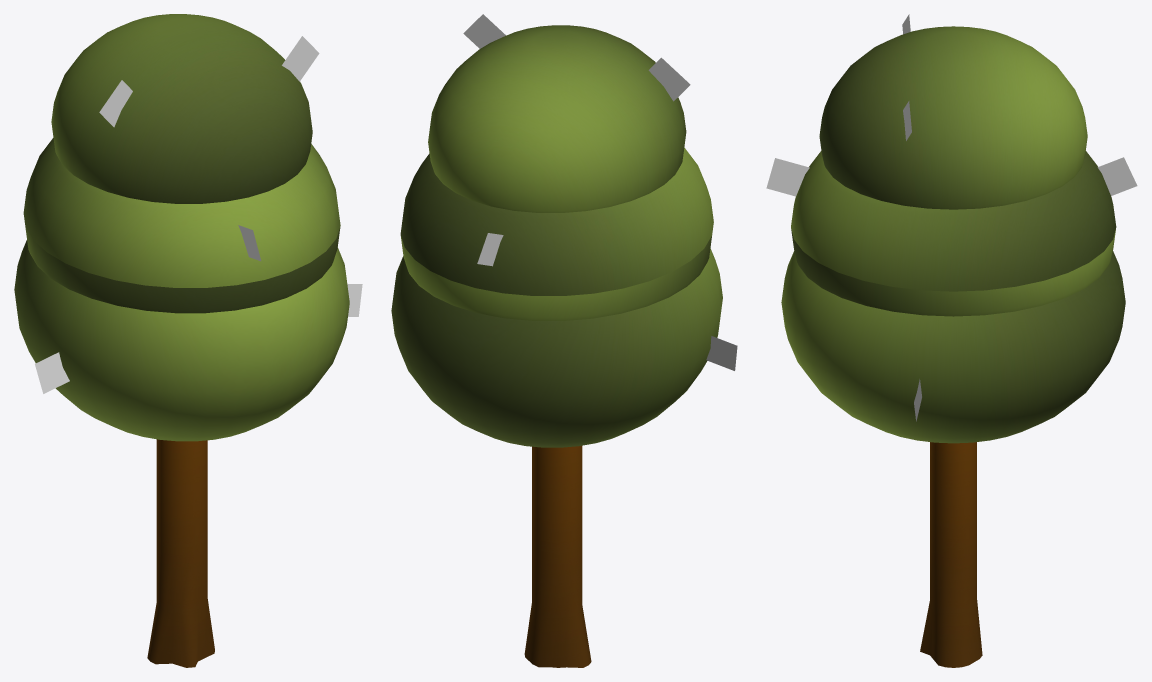
Rendered from Tree 6.fbx.
3 renders of one model, left to right at view 1: azimuth 30°, elevation 25°; view 2: azimuth 150°, elevation 25°; view 3: azimuth 270°, elevation 25°, orthographic.
Parts seen in each view (by area): view 1: Tree 6, Leaf (×3); view 2: Tree 6, Leaf (×4); view 3: Tree 6, Leaf (×2).
Part boxes in pixels (box(x1,y1,x2,y2)): Tree 6: box(14, 14, 349, 667); Leaf (×3): box(35, 36, 319, 393); Tree 6: box(391, 25, 722, 667); Leaf (×4): box(463, 14, 737, 370); Tree 6: box(781, 26, 1125, 667); Leaf (×2): box(766, 157, 1137, 196).
Bounding box in the file's own units: 45.28 × 81.82 × 44.99.
